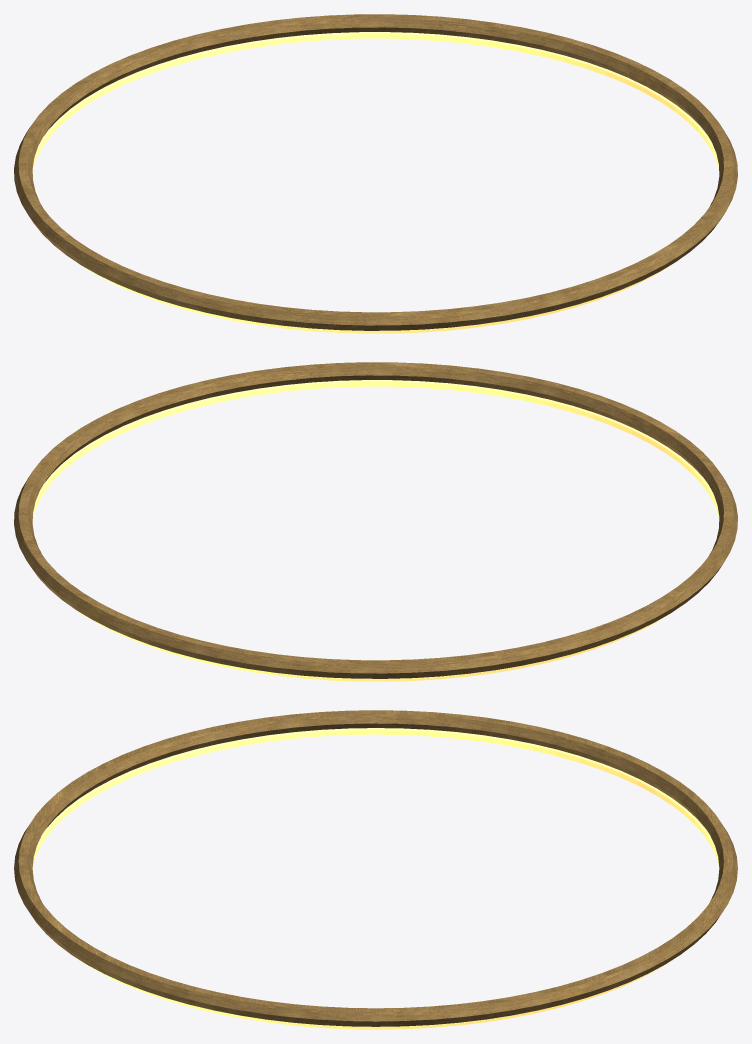
File: commons-halo-light.glb
3 views of the same model, one above another, from view 1: azimuth 30°, elevation 25°; view 2: azimuth 150°, elevation 25°; view 3: azimuth 270°, elevation 25° (orthographic).
Visible parts, largest first — view 1: LGT_Halo.002, LGT_HaloLight.002; view 2: LGT_Halo.002, LGT_HaloLight.002; view 3: LGT_Halo.002, LGT_HaloLight.002.
Part boxes in pixels (x1=…): LGT_Halo.002: x1=14, y1=14, x2=737, y2=330; LGT_HaloLight.002: x1=32, y1=32, x2=718, y2=333; LGT_Halo.002: x1=14, y1=362, x2=737, y2=678; LGT_HaloLight.002: x1=33, y1=380, x2=719, y2=681; LGT_Halo.002: x1=14, y1=710, x2=737, y2=1026; LGT_HaloLight.002: x1=33, y1=728, x2=718, y2=1029.
Bounding box in the file's own units: 3.49 × 0.1099 × 3.49.
Materials: 2 (1 with a texture image).
